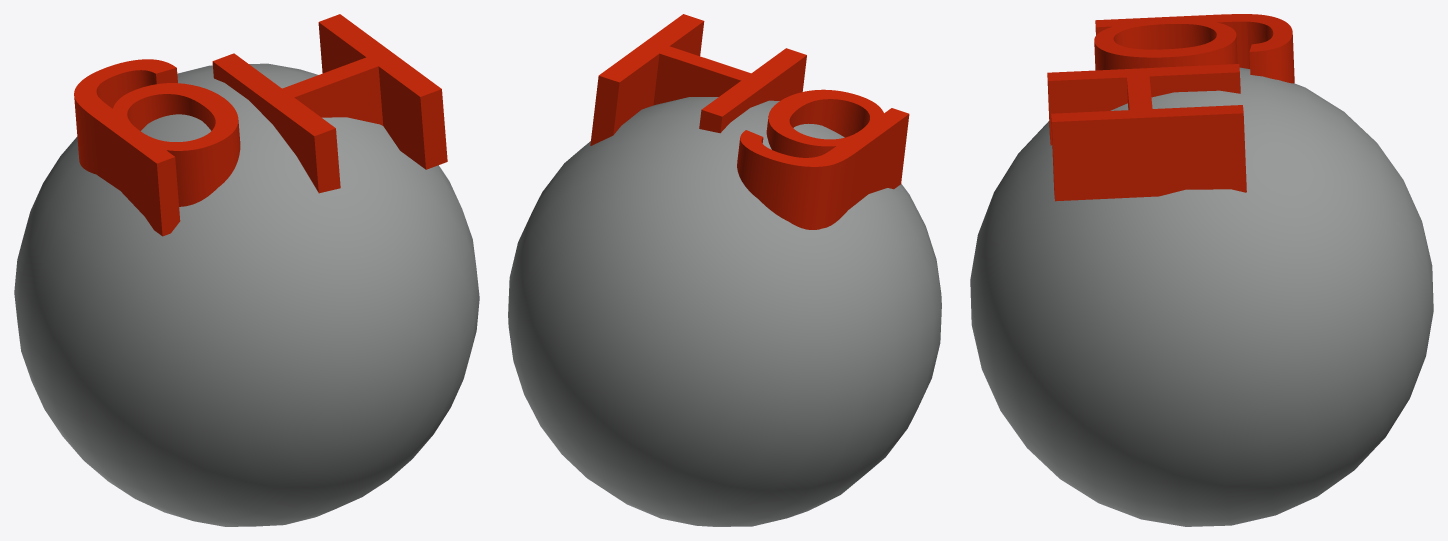
3 renders of one model, left to right at view 1: azimuth 30°, elevation 25°; view 2: azimuth 150°, elevation 25°; view 3: azimuth 270°, elevation 25°, orthographic. The views are drawn at different scales.
Parts seen in each view (by area): view 1: Hg; view 2: Hg; view 3: Hg.
Boxes of the visible parts, left/top/right/bottom form: Hg: left=14, top=14, right=479, bottom=526; Hg: left=508, top=14, right=941, bottom=526; Hg: left=970, top=14, right=1433, bottom=526.
Bounding box in the file's own units: 38.61 × 41.13 × 38.66.
